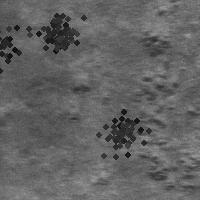rolled-in_scale: (110, 62, 200, 135), (133, 127, 200, 197), (91, 100, 149, 158), (28, 2, 84, 58), (136, 29, 175, 74), (0, 17, 28, 71)
